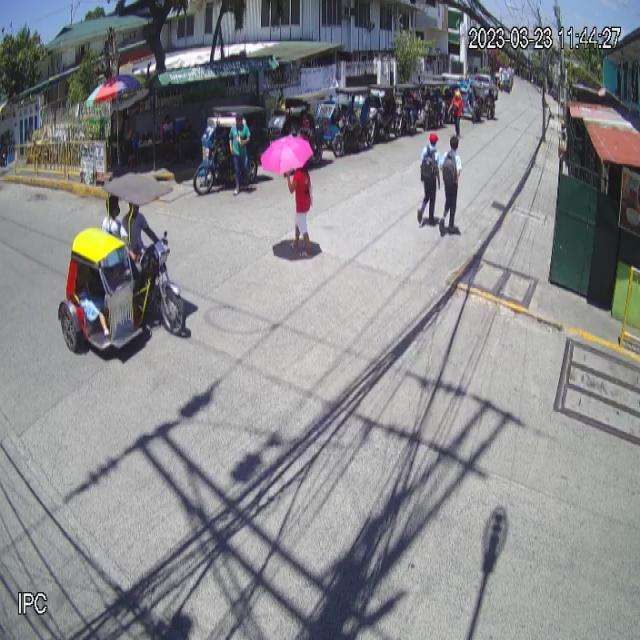Tricycle: (58, 172, 186, 356)
